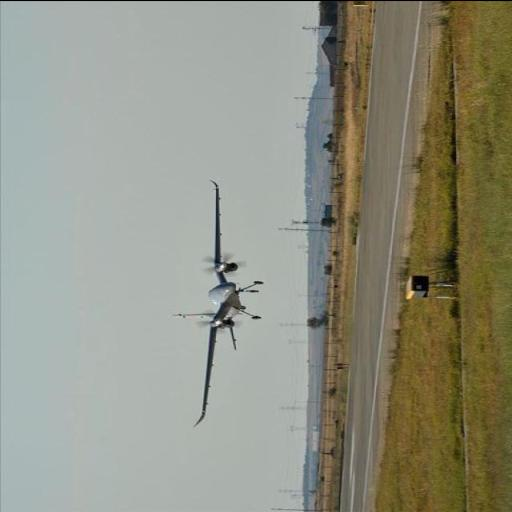uav: (167, 172, 259, 450)
